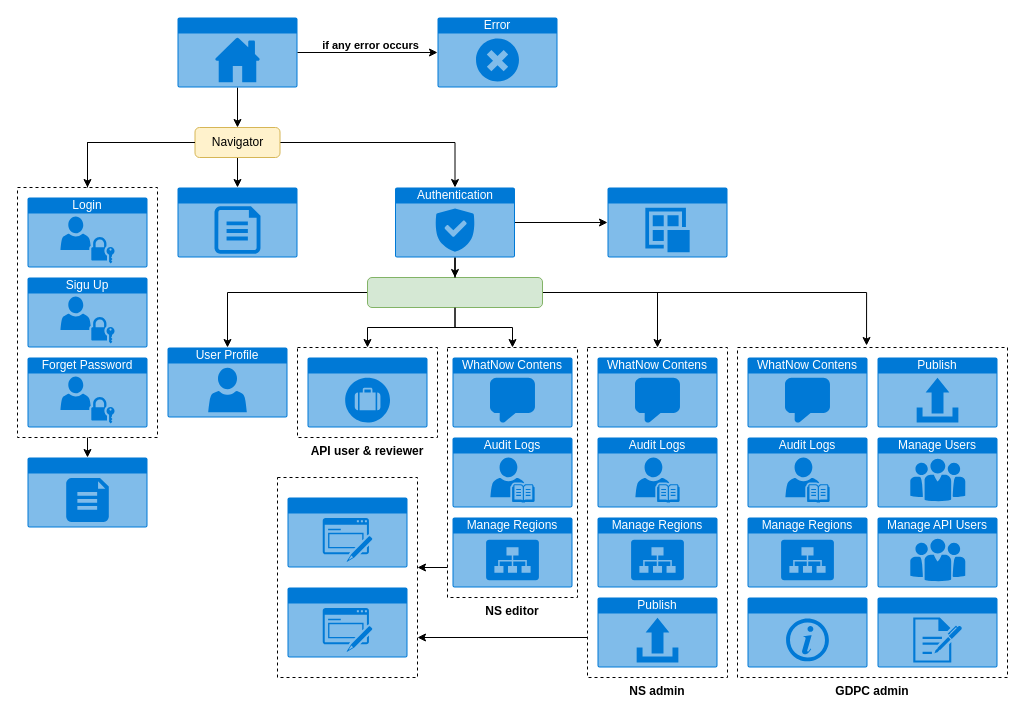
This 1025x715 diagram has some shape labels left out. The centre of each missing label's shape, as x and y in pixels:
Add Content: the point at 347,532
API Stats: the point at 807,632
Documentation: the point at 87,492
Edit Content: the point at 347,622
Landing Page: the point at 237,52
Manage Terms: the point at 937,632
My Apps: the point at 367,392
Permission-based Rendering: the point at 454,292
Terms and C onditions: the point at 237,222
WhatNow Messages: the point at 667,222
